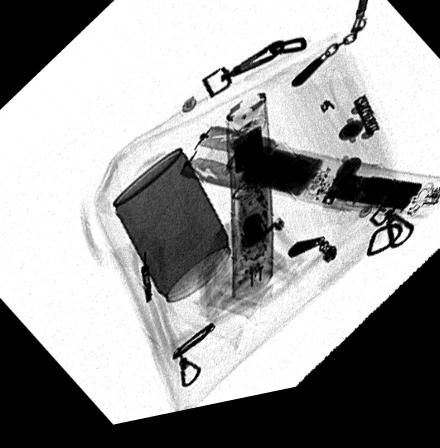Baton: (174, 131, 440, 237), (224, 102, 274, 311)
